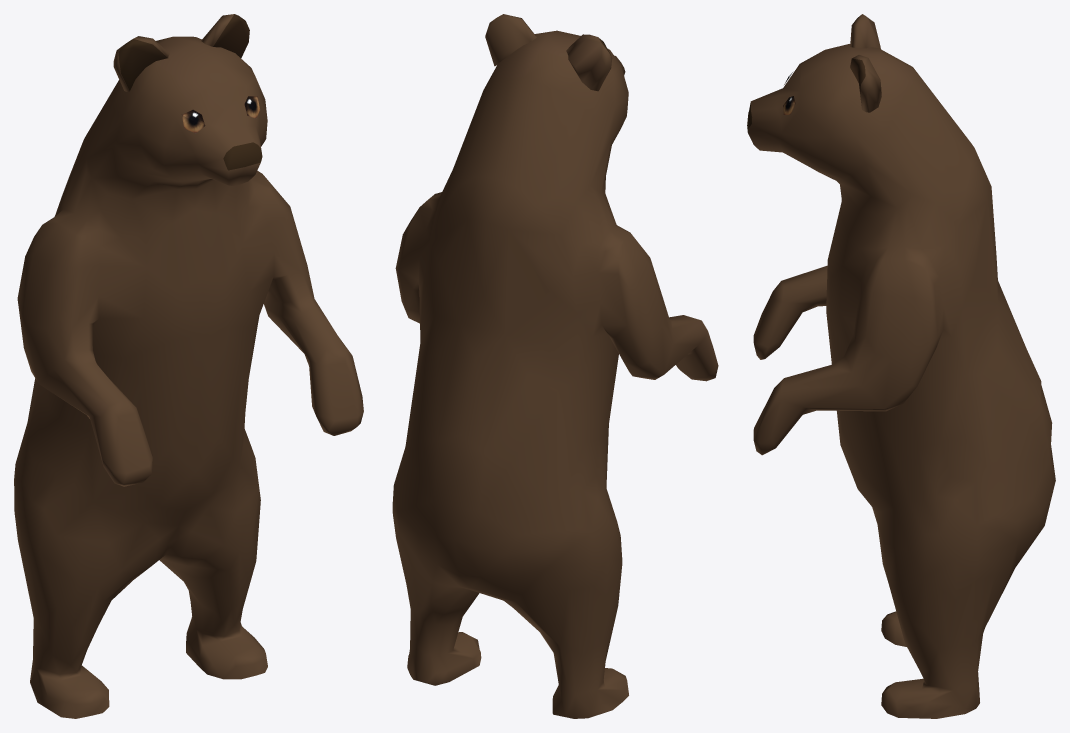
The model's file is Bear02.glb.
3 views of the same model, side by side, from view 1: azimuth 30°, elevation 25°; view 2: azimuth 150°, elevation 25°; view 3: azimuth 270°, elevation 25° (orthographic). The views are drawn at different scales.
Parts seen in each view (by area): view 1: Bear02; view 2: Bear02; view 3: Bear02.
Part boxes in pixels (left/top/right/bottom): Bear02: left=14, top=14, right=363, bottom=718; Bear02: left=392, top=14, right=718, bottom=718; Bear02: left=747, top=14, right=1055, bottom=718.
Size of what is drawn, in the model's own units: 0.9601 by 2.31 by 1.02.
1 material, 1 textured.
